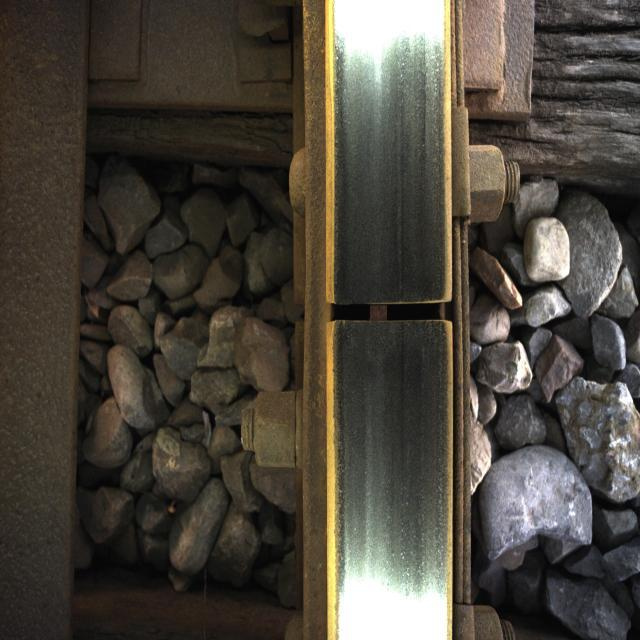spalling: (300, 248, 484, 374)
